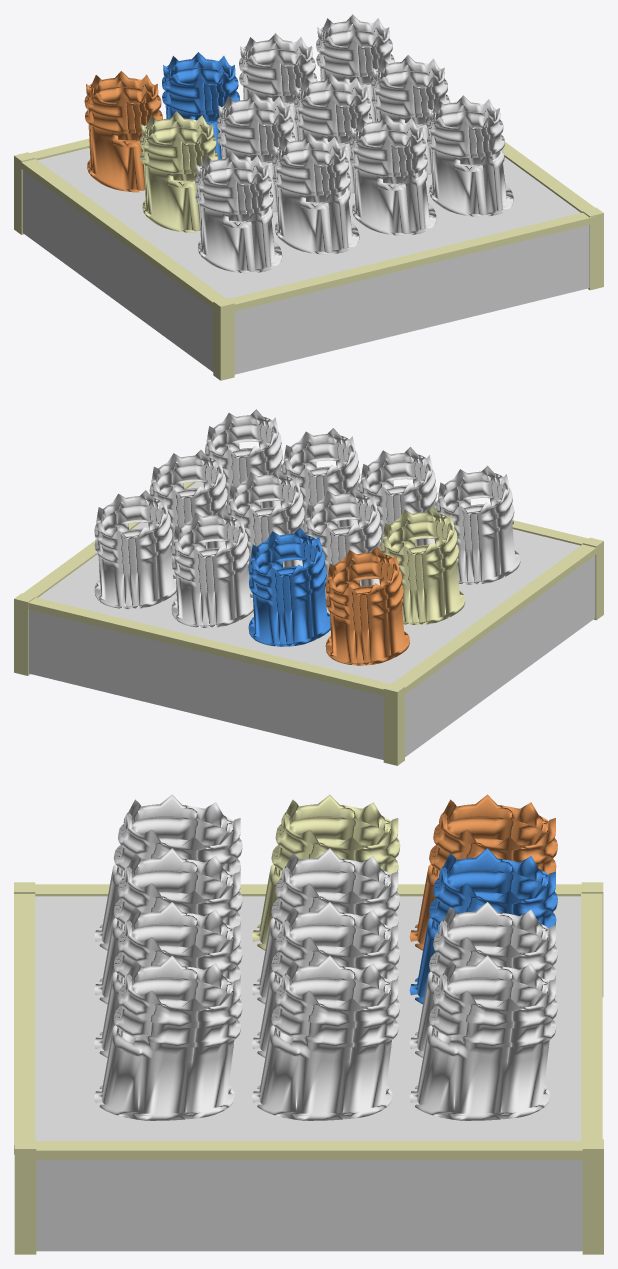
Rendered from headquarters.glb.
3 renders of one model, top to bottom at view 1: azimuth 30°, elevation 25°; view 2: azimuth 150°, elevation 25°; view 3: azimuth 270°, elevation 25°, orthographic. The views are drawn at different scales.
Parts seen in each view (by area): view 1: Cube.004, Cube.005, Cube.002, Circle.010, Circle.009, Circle.011, Circle.012, Circle.004, Circle.005, Cube.012, Circle.006, Circle.007 (+10 smaller); view 2: Cube.004, Cube.005, Cube.002, Circle.005, Circle.001, Circle.002, Circle.003, Circle.009, Circle.004, Cube.013, Circle.008, Circle.007 (+10 smaller); view 3: Cube.002, Cube.005, Circle.008, Circle.012, Circle.003, Cube.011, Circle.007, Circle.002, Circle.004, Circle.011, Circle.010, Circle.006 (+8 smaller).
Boxes of the visible parts, x1=… form: Cube.004: x1=234, y1=225, x2=589, y2=374; Cube.005: x1=38, y1=147, x2=580, y2=298; Cube.002: x1=22, y1=170, x2=213, y2=371; Circle.010: x1=272, y1=133, x2=359, y2=254; Circle.009: x1=195, y1=152, x2=282, y2=273; Circle.011: x1=349, y1=114, x2=436, y2=235; Circle.012: x1=426, y1=95, x2=513, y2=216; Circle.004: x1=140, y1=111, x2=218, y2=232; Circle.005: x1=84, y1=71, x2=162, y2=192; Cube.012: x1=229, y1=212, x2=595, y2=310; Circle.006: x1=217, y1=92, x2=295, y2=212; Circle.007: x1=294, y1=74, x2=372, y2=193; Cube.004: x1=28, y1=609, x2=383, y2=759; Cube.005: x1=38, y1=482, x2=580, y2=683; Cube.002: x1=405, y1=555, x2=595, y2=756; Circle.005: x1=325, y1=546, x2=409, y2=665; Circle.001: x1=248, y1=528, x2=330, y2=646; Circle.002: x1=171, y1=509, x2=253, y2=627; Circle.003: x1=94, y1=490, x2=176, y2=609; Circle.009: x1=436, y1=465, x2=520, y2=584; Circle.004: x1=381, y1=506, x2=465, y2=624; Cube.013: x1=28, y1=597, x2=389, y2=695; Circle.008: x1=149, y1=450, x2=227, y2=561; Circle.007: x1=226, y1=468, x2=304, y2=579; Cube.002: x1=36, y1=1160, x2=582, y2=1251; Cube.005: x1=35, y1=896, x2=580, y2=1140; Circle.008: x1=252, y1=955, x2=400, y2=1120; Circle.012: x1=94, y1=955, x2=242, y2=1120; Circle.003: x1=409, y1=955, x2=557, y2=1120; Cube.011: x1=29, y1=1141, x2=592, y2=1159; Circle.007: x1=252, y1=902, x2=400, y2=1057; Circle.002: x1=409, y1=902, x2=557, y2=1057; Circle.004: x1=252, y1=794, x2=400, y2=950; Circle.011: x1=94, y1=902, x2=242, y2=1057; Circle.010: x1=94, y1=848, x2=242, y2=1004; Circle.006: x1=252, y1=848, x2=400, y2=1003.
Size of the model in its own units: 3.18 by 1.27 by 2.98.
